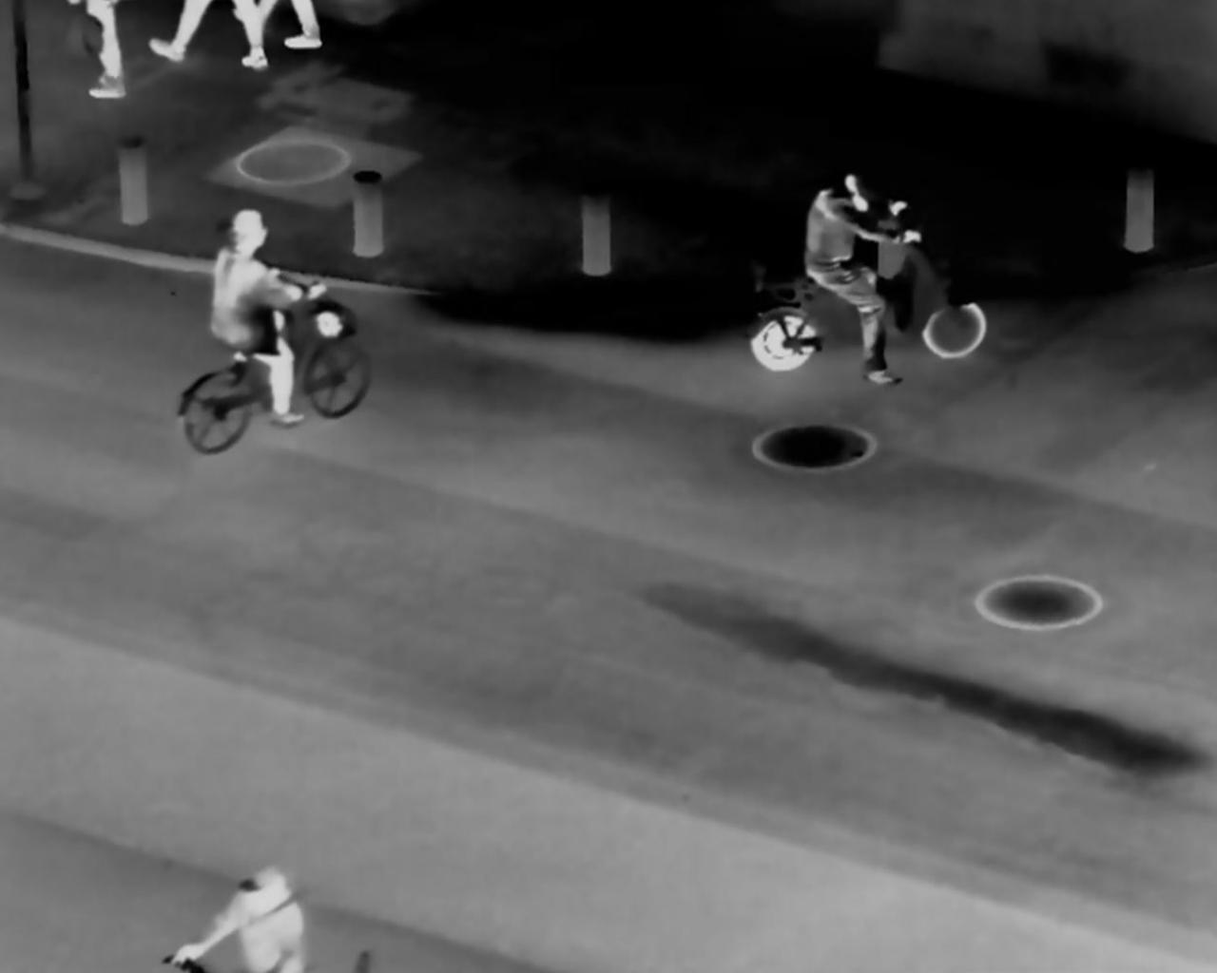person: (792, 160, 915, 404), (208, 205, 312, 438), (166, 851, 340, 973)
